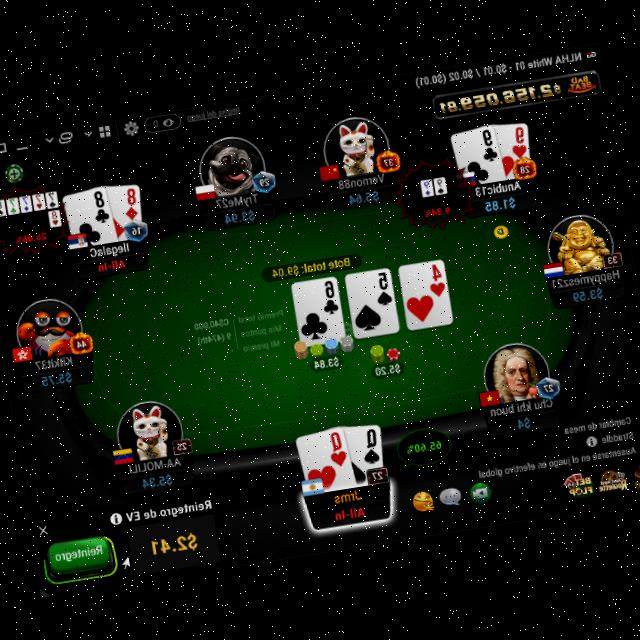4h: (425, 260, 447, 297)
5s: (372, 268, 394, 306)
6c: (318, 276, 340, 314)
8c: (89, 186, 112, 224)
8d: (120, 186, 140, 220)
9c: (477, 126, 500, 163)
9h: (508, 124, 528, 160)
Qh: (325, 428, 349, 468)
Qs: (357, 423, 383, 464), (358, 424, 382, 465)
all_in_symbol: (330, 500, 368, 522), (95, 256, 127, 274)
bet_text: (311, 352, 342, 370), (372, 359, 402, 376)
dealer: (492, 222, 511, 241)
pot_text: (270, 252, 352, 278)
stack_text: (36, 367, 73, 387), (483, 193, 517, 214), (222, 207, 258, 226), (140, 470, 174, 490), (570, 284, 604, 304), (346, 186, 380, 205), (515, 414, 532, 430)
